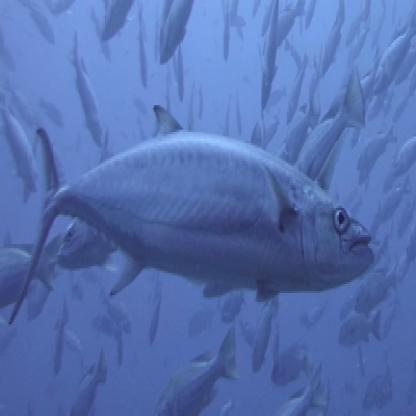tuna: (8, 95, 382, 321)
